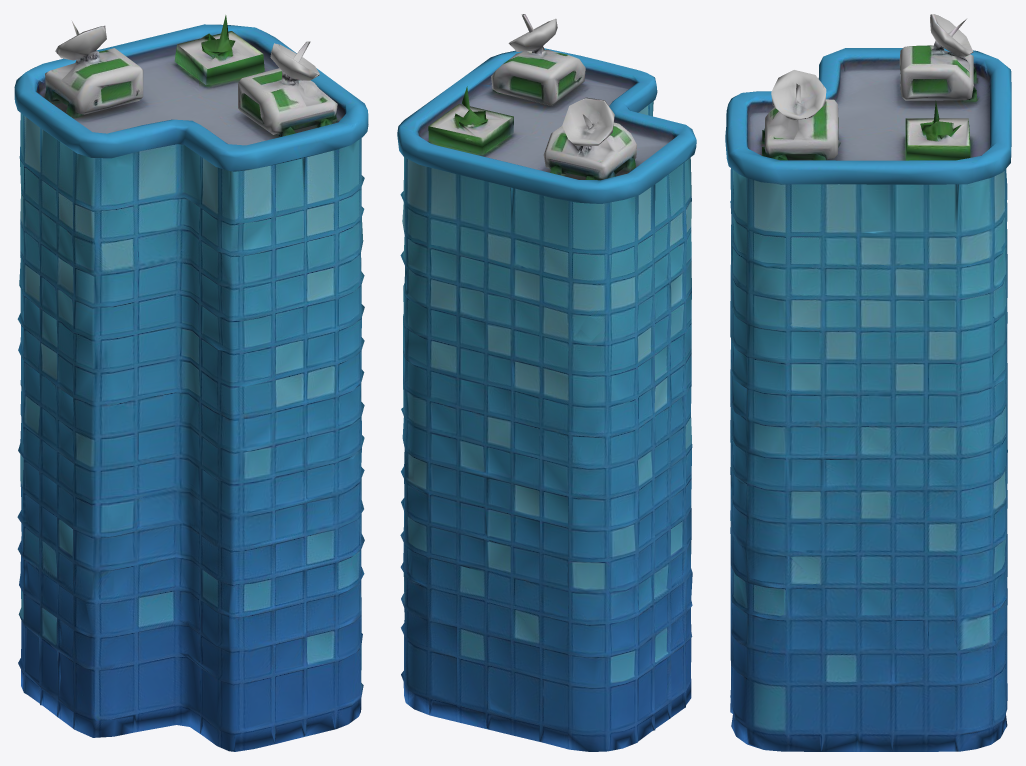
The model's file is CenarioTorre.glb.
3 renders of one model, left to right at view 1: azimuth 30°, elevation 25°; view 2: azimuth 150°, elevation 25°; view 3: azimuth 270°, elevation 25°, orthographic. The views are drawn at different scales.
Visible parts, largest first — view 1: tripo_node_db3b312d-37fb-4689-830a-ab2f9a83e0a8; view 2: tripo_node_db3b312d-37fb-4689-830a-ab2f9a83e0a8; view 3: tripo_node_db3b312d-37fb-4689-830a-ab2f9a83e0a8.
Part boxes in pixels (x1,y1,x2,y2): tripo_node_db3b312d-37fb-4689-830a-ab2f9a83e0a8: (14,15,368,751); tripo_node_db3b312d-37fb-4689-830a-ab2f9a83e0a8: (397,14,696,751); tripo_node_db3b312d-37fb-4689-830a-ab2f9a83e0a8: (725,14,1011,751).
Size of the model in its own units: 0.604 by 1.5 by 0.6009.
1 material, 1 textured.
